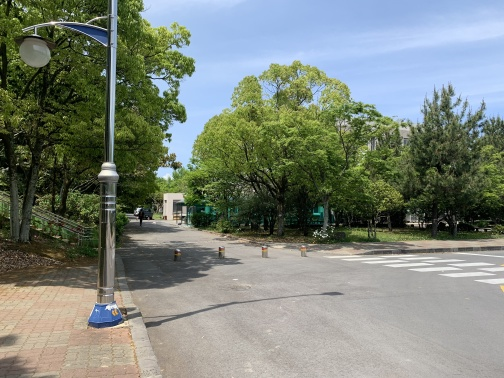Ara Hall: (179, 190, 349, 238)
